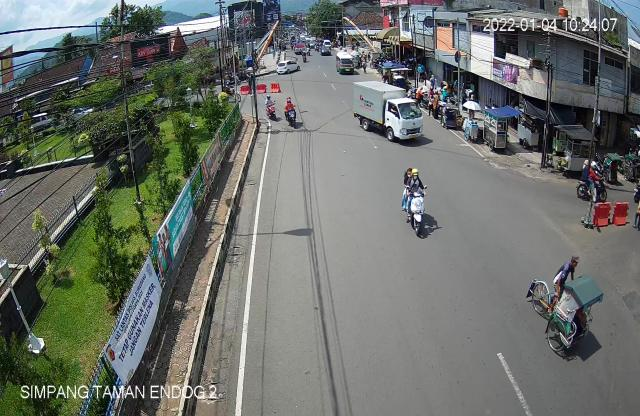Becak: (525, 249, 602, 362)
Motor: (401, 167, 437, 244), (575, 154, 611, 203), (282, 94, 302, 131), (261, 90, 282, 124)
Truk: (348, 79, 426, 150)
